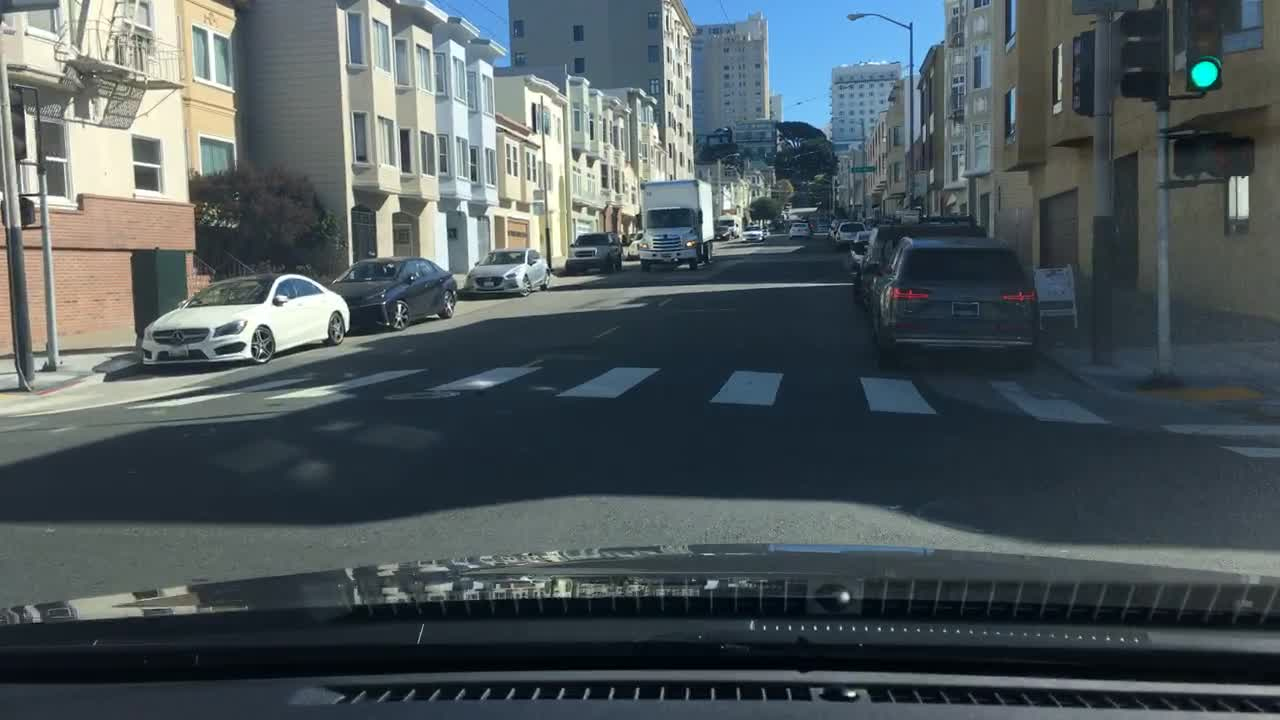car: (873, 235, 1040, 368), (138, 273, 351, 376), (854, 214, 988, 321), (323, 254, 459, 333), (461, 250, 549, 300), (565, 228, 620, 277), (850, 224, 872, 275), (834, 220, 865, 247), (624, 231, 640, 266), (714, 216, 737, 239), (788, 218, 812, 239), (739, 224, 766, 242), (825, 221, 838, 240)
traffic light: (1120, 8, 1163, 98), (1172, 134, 1254, 176), (1187, 1, 1223, 91), (5, 85, 28, 158), (18, 197, 37, 224)
traffic sign: (1, 0, 62, 12), (848, 165, 881, 172)
truck: (636, 177, 716, 271)
